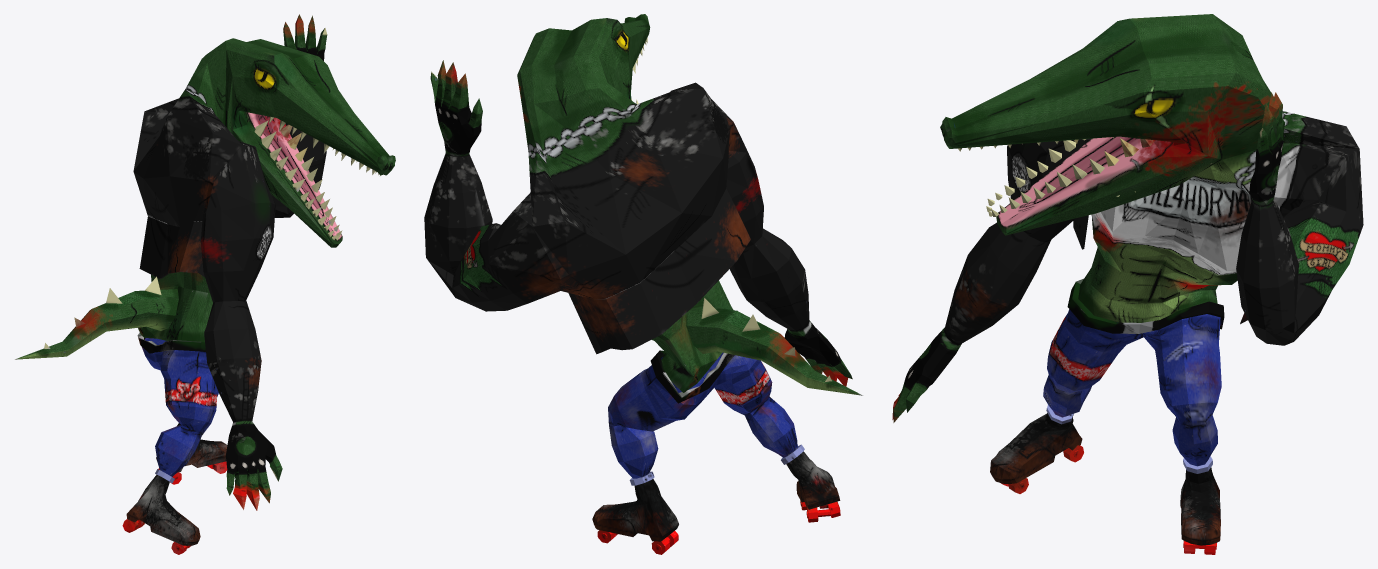
File: cocodrilaBonesSelect_000004.obj
3 renders of one model, left to right at view 1: azimuth 30°, elevation 25°; view 2: azimuth 150°, elevation 25°; view 3: azimuth 270°, elevation 25°, orthographic. The views are drawn at different scales.
Visible parts, largest first — view 1: Crocodile.002_Cylinder.002; view 2: Crocodile.002_Cylinder.002; view 3: Crocodile.002_Cylinder.002.
Part boxes in pixels (left/top/right/bottom): Crocodile.002_Cylinder.002: left=15, top=14, right=395, bottom=554; Crocodile.002_Cylinder.002: left=424, top=14, right=862, bottom=554; Crocodile.002_Cylinder.002: left=892, top=14, right=1363, bottom=554.
Bounding box in the file's own units: 5.15 × 6.11 × 4.68.
